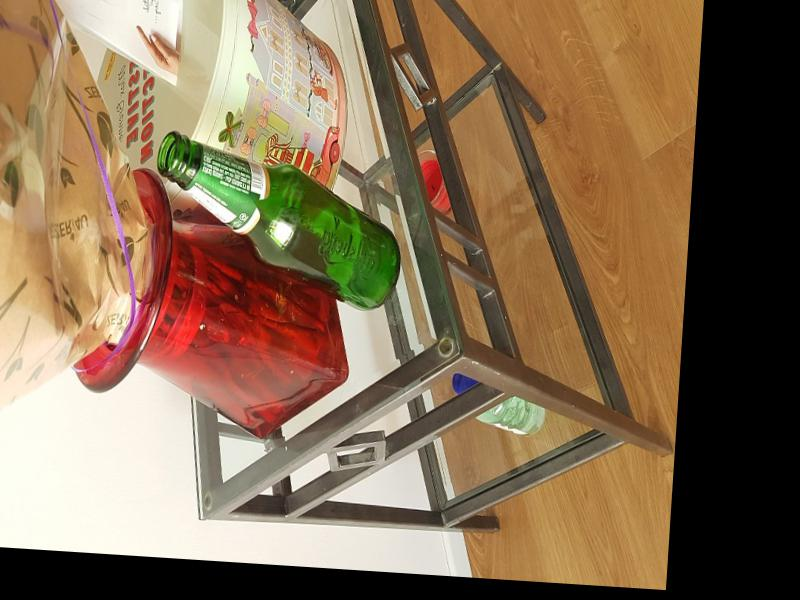Beer: (148, 133, 407, 312)
